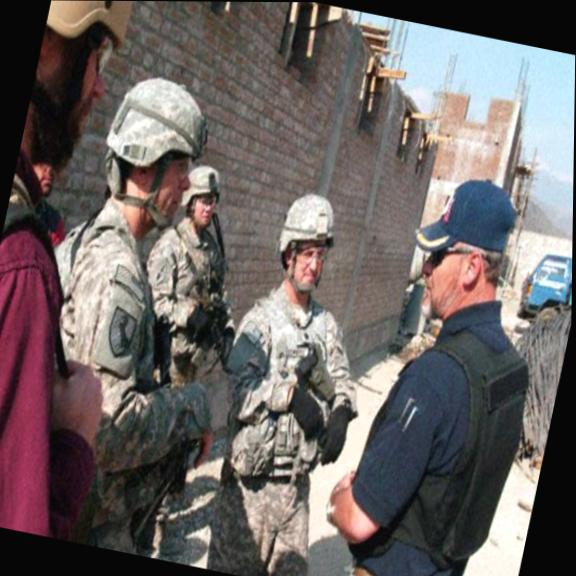no_safety_vest: (324, 307, 542, 576), (4, 205, 186, 503), (205, 284, 362, 489), (122, 210, 247, 370)
